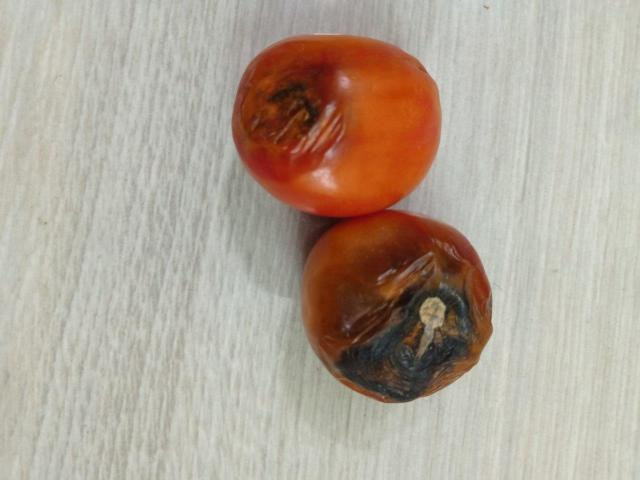defect: (235, 32, 441, 228), (300, 209, 498, 405)
